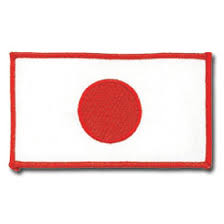Japanese Flag: (13, 55, 207, 167)
